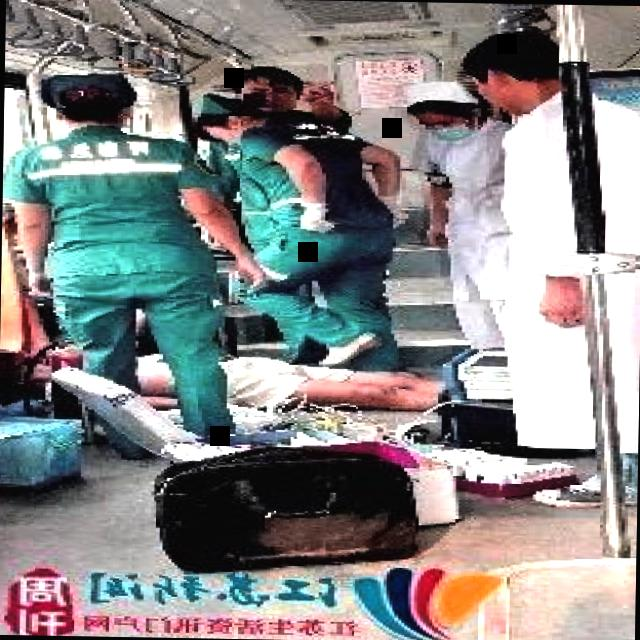Fall-Detected: (66, 340, 516, 430)
